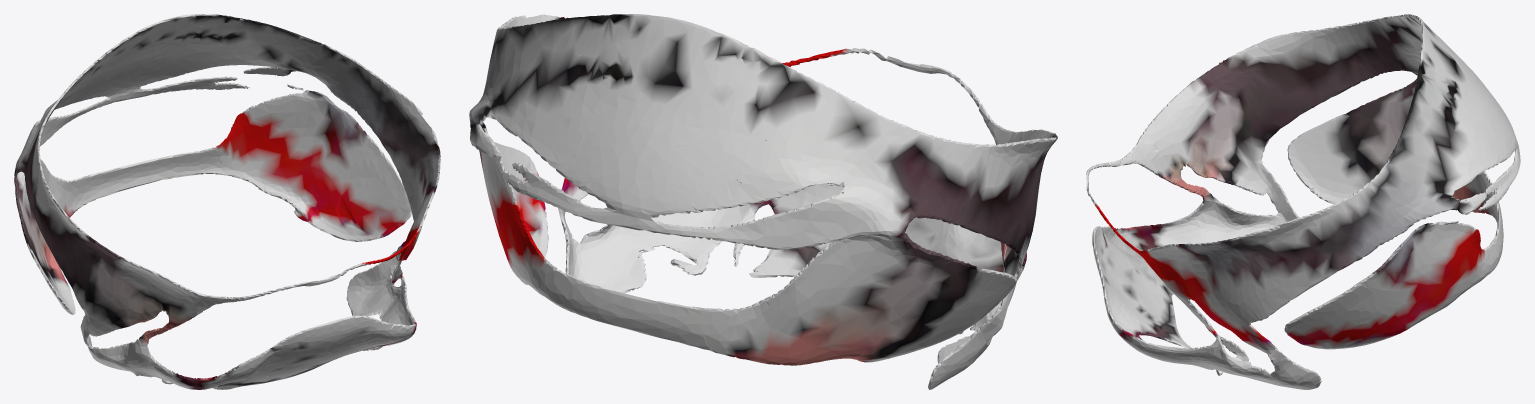
File: ring_fighting.glb
The picture shows the model from 3 angles, left to right: view 1: azimuth 30°, elevation 25°; view 2: azimuth 150°, elevation 25°; view 3: azimuth 270°, elevation 25°; orthographic projection. The views are drawn at different scales.
Visible parts, largest first — view 1: geometry_0; view 2: geometry_0; view 3: geometry_0.
Part boxes in pixels (left/top/right/bottom): geometry_0: left=14, top=14, right=440, bottom=389; geometry_0: left=469, top=14, right=1057, bottom=389; geometry_0: left=1086, top=14, right=1520, bottom=389.
Size of the model in its own units: 0.5938 by 0.4266 by 0.5737.
